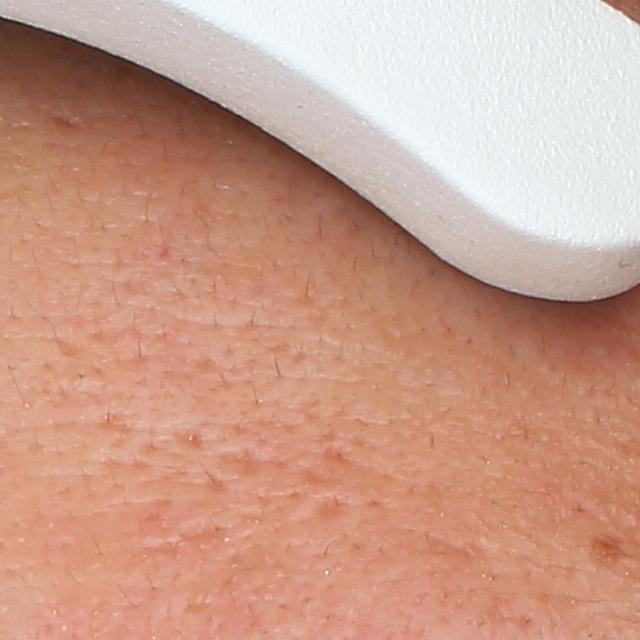atrophic_scar: (426, 532, 499, 576), (170, 518, 238, 550), (306, 489, 365, 525), (217, 441, 264, 477), (174, 417, 208, 456)
nevus: (588, 532, 627, 571)
